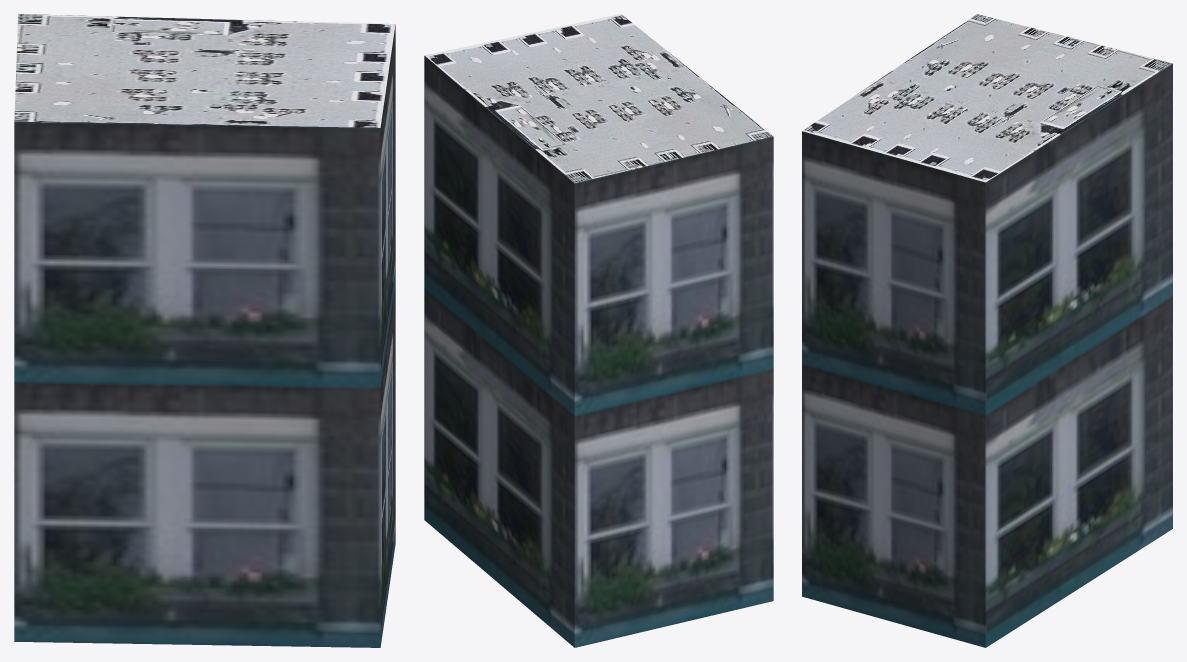
The model's file is ResTex__2210.fbx.
The picture shows the model from 3 angles, left to right: view 1: azimuth 30°, elevation 25°; view 2: azimuth 150°, elevation 25°; view 3: azimuth 270°, elevation 25°; orthographic projection. The views are drawn at different scales.
Parts seen in each view (by area): view 1: CityEngineMaterial_11_m, CityEngineMaterial_m; view 2: CityEngineMaterial_11_m, CityEngineMaterial_m; view 3: CityEngineMaterial_11_m, CityEngineMaterial_m.
Part boxes in pixels (x1,y1,x2,y2): CityEngineMaterial_11_m: (14, 25, 395, 647); CityEngineMaterial_m: (14, 14, 395, 127); CityEngineMaterial_11_m: (424, 56, 773, 647); CityEngineMaterial_m: (424, 14, 773, 183); CityEngineMaterial_11_m: (802, 63, 1172, 647); CityEngineMaterial_m: (802, 14, 1172, 182).
Size of the model in its own units: 4.66 by 6 by 4.33.
2 materials, 2 textured.
